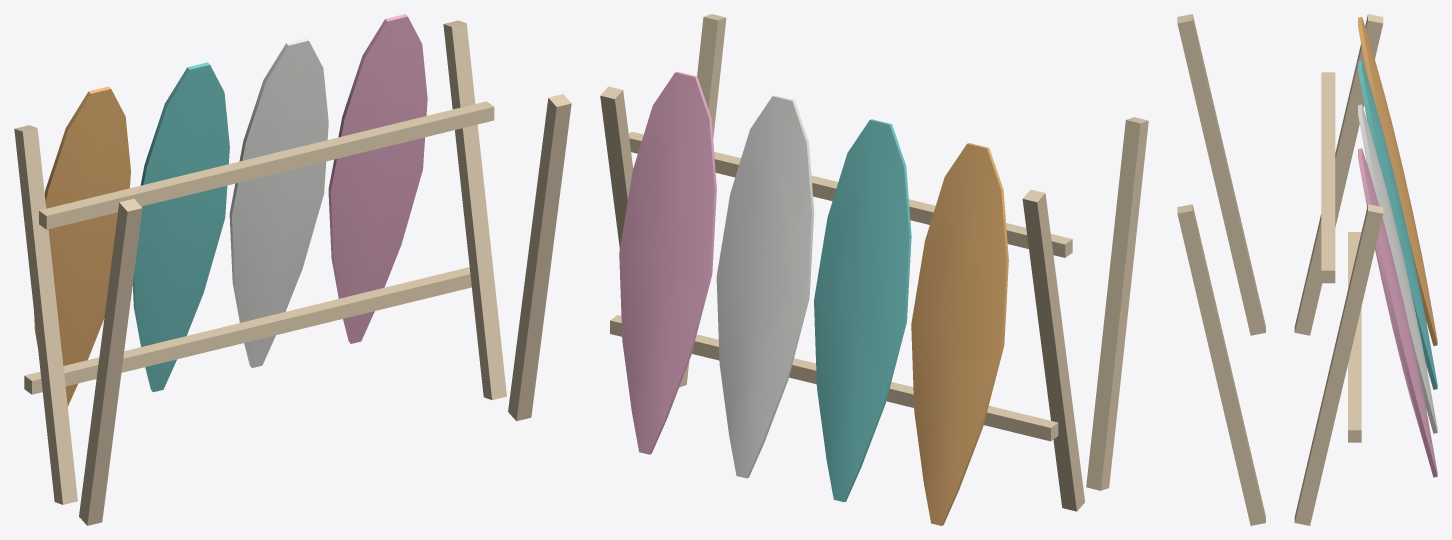
The model's file is surfboard_rack.glb.
3 views of the same model, side by side, from view 1: azimuth 30°, elevation 25°; view 2: azimuth 150°, elevation 25°; view 3: azimuth 270°, elevation 25° (orthographic). The views are drawn at different scales.
Visible parts, largest first — view 1: body; view 2: body; view 3: body.
Boxes of the visible parts, box(x1,y1,x2,y2) form: body: box(14, 14, 571, 525); body: box(600, 14, 1148, 525); body: box(1177, 14, 1437, 525).
Bounding box in the file's own units: 2.4 × 1.92 × 1.33.
